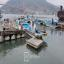fishing boat: (21, 18, 48, 40), (43, 12, 62, 30), (20, 12, 32, 24)
